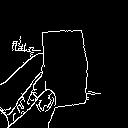cube: (36, 24, 96, 115)
